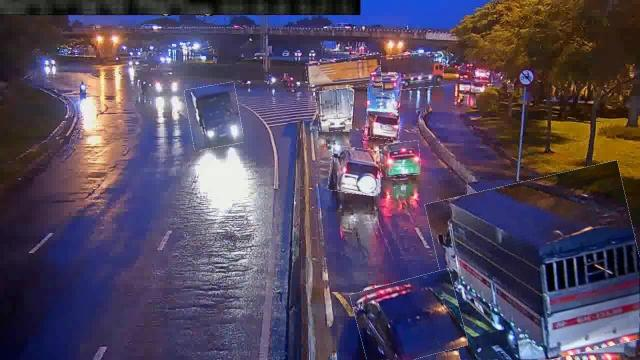Car: (354, 274, 464, 360), (330, 147, 382, 195), (379, 142, 421, 176), (366, 112, 400, 140)
Truck: (433, 170, 639, 360), (186, 84, 242, 148), (306, 56, 386, 90), (381, 52, 444, 90), (316, 80, 352, 132)
